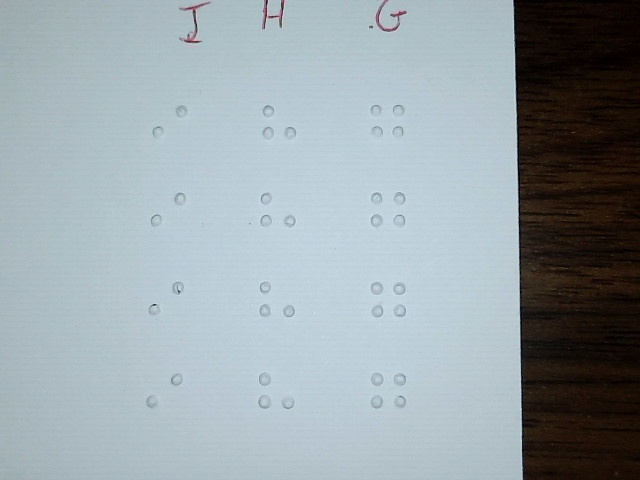G: (368, 93, 407, 159), (369, 182, 408, 248), (369, 274, 408, 340), (369, 364, 408, 430)
H: (260, 95, 299, 161), (259, 182, 298, 248), (257, 272, 296, 338), (256, 363, 295, 429)
I: (150, 95, 189, 161), (149, 179, 188, 245), (145, 361, 184, 427)
